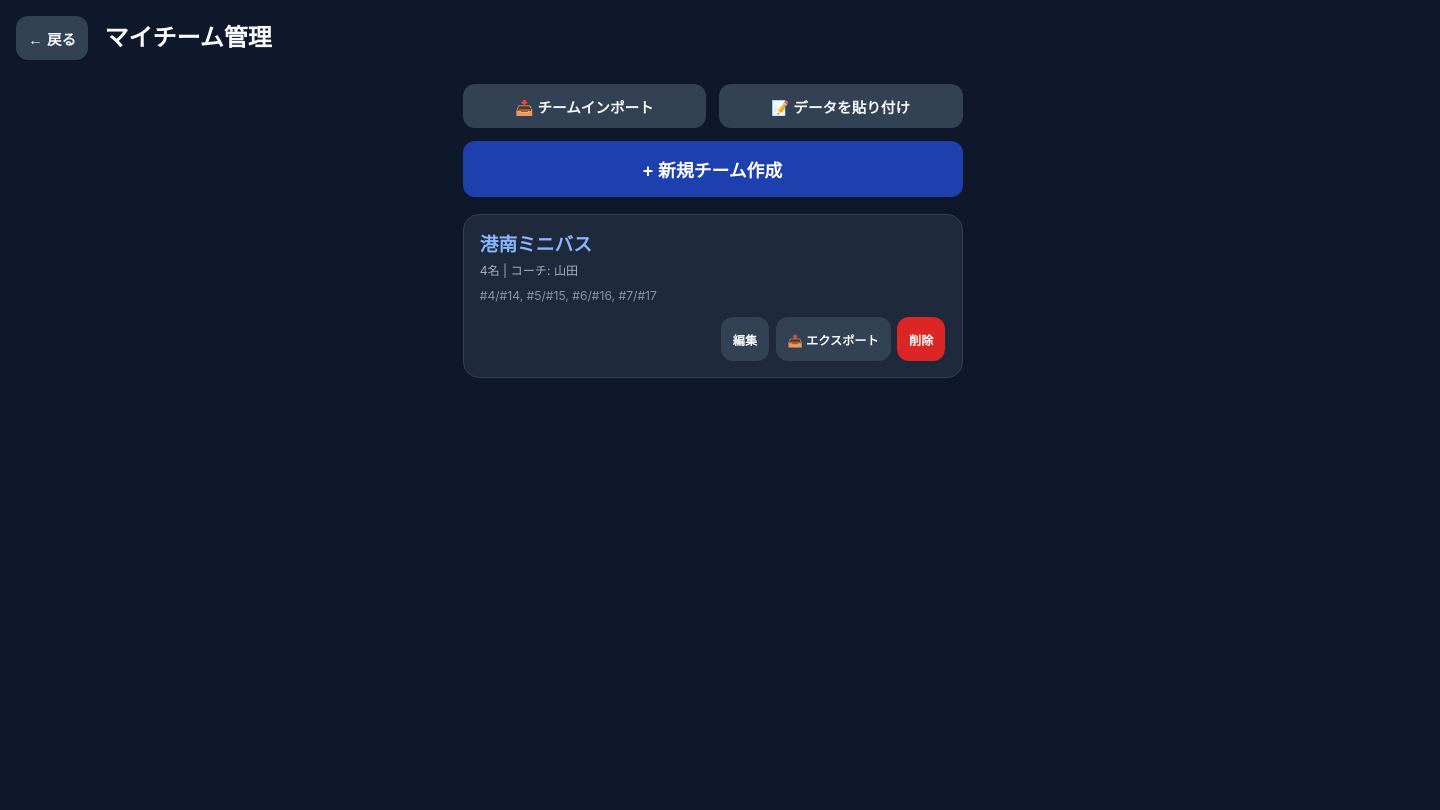
MyTeamManager: 編集と保存 › 5人未満では保存できない（コート上の人数を満たせないため）
Click the button "編集".
click(745, 339)  # box [721,317,769,361]
(page scrolled)
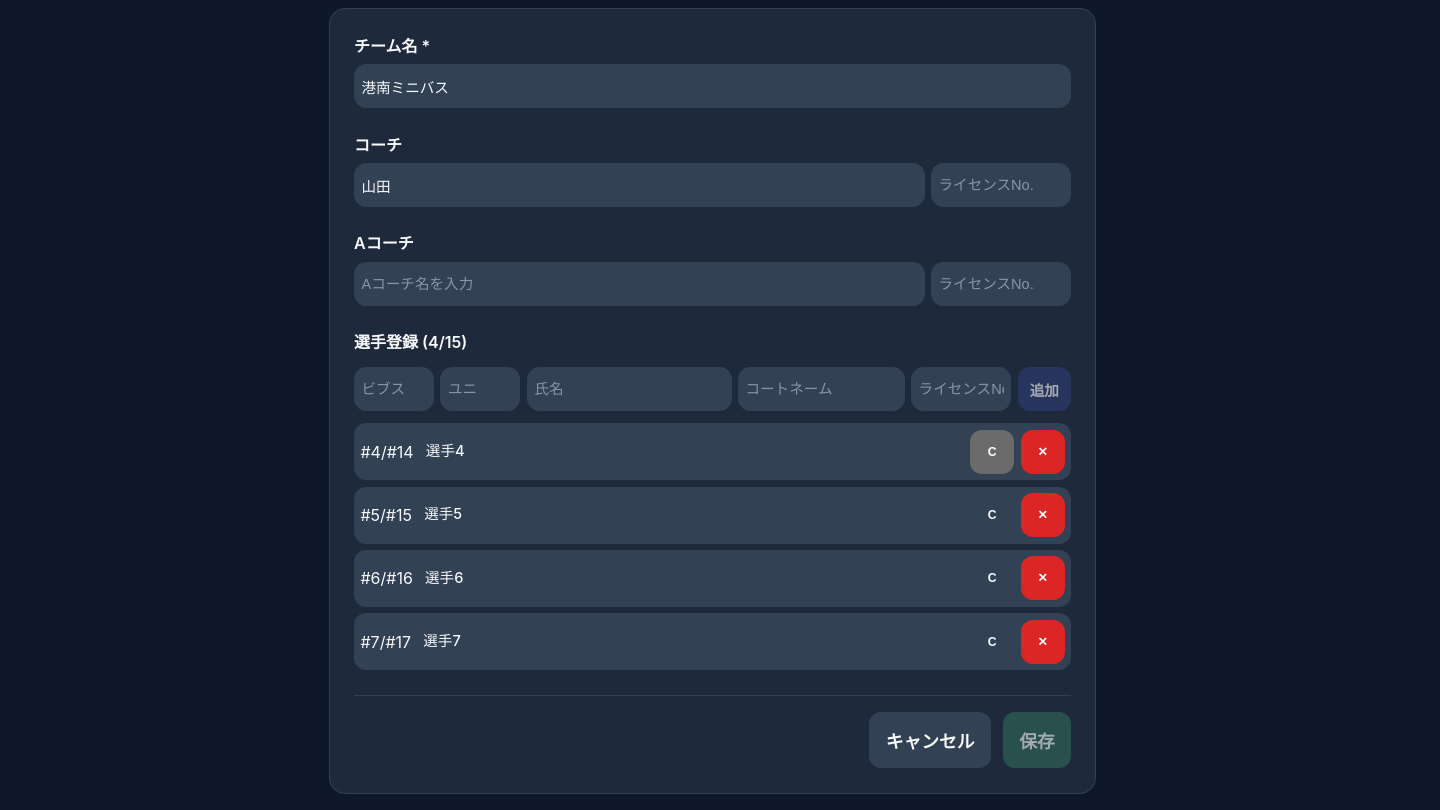
Now the button "保存" is disabled, box [1003,712,1071,768]
